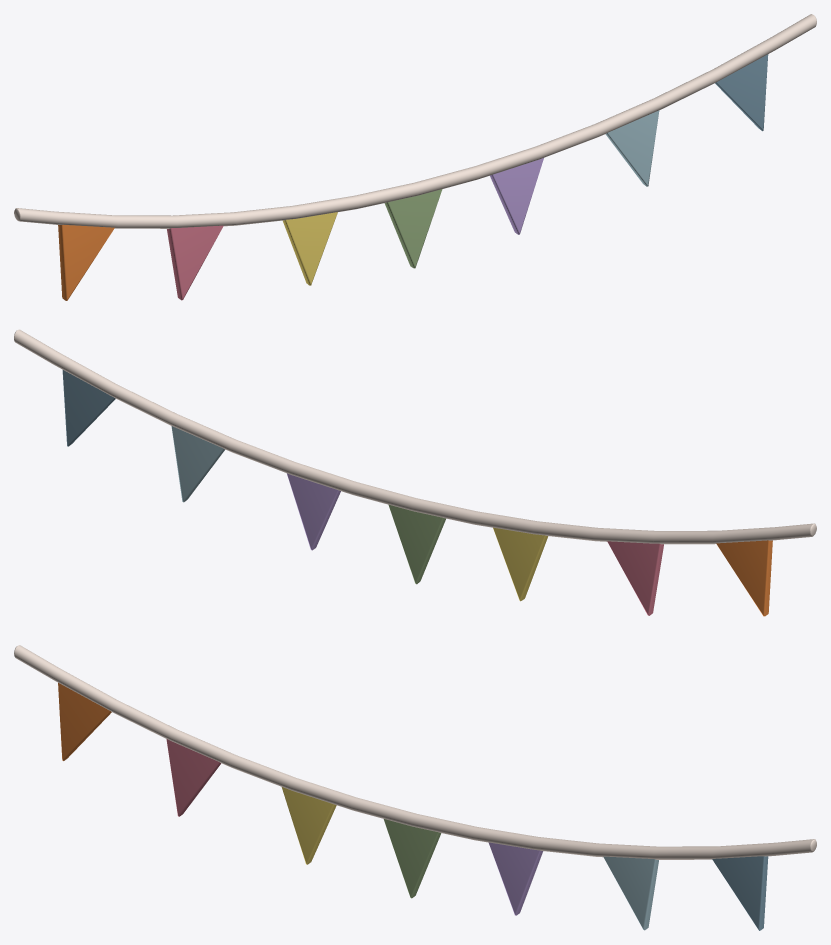
The model's file is Frame_8.glb.
3 renders of one model, top to bottom at view 1: azimuth 30°, elevation 25°; view 2: azimuth 150°, elevation 25°; view 3: azimuth 330°, elevation 25°, orthographic.
Parts seen in each view (by area): view 1: Flags_1; view 2: Flags_1; view 3: Flags_1.
Boxes of the visible parts, x1,y1,x2,y2 form: Flags_1: (14,14,816,300); Flags_1: (14,329,816,616); Flags_1: (14,645,816,930).
Size of the model in its own units: 4.95 by 0.9216 by 0.0726.
Materials: 1 (1 with a texture image).
